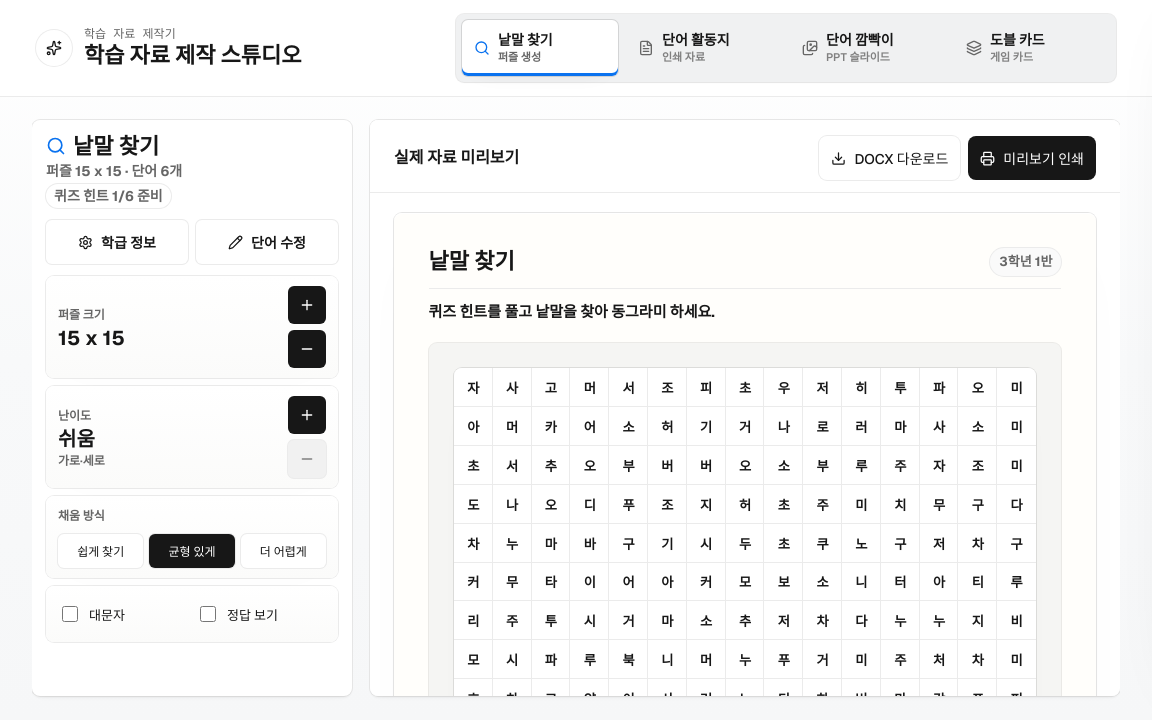
Test: App › gives student sheets a clear task and nearby completion spaces
Click the button "단어 활동지 인쇄 자료".
click(704, 48)  # box [626,20,782,76]
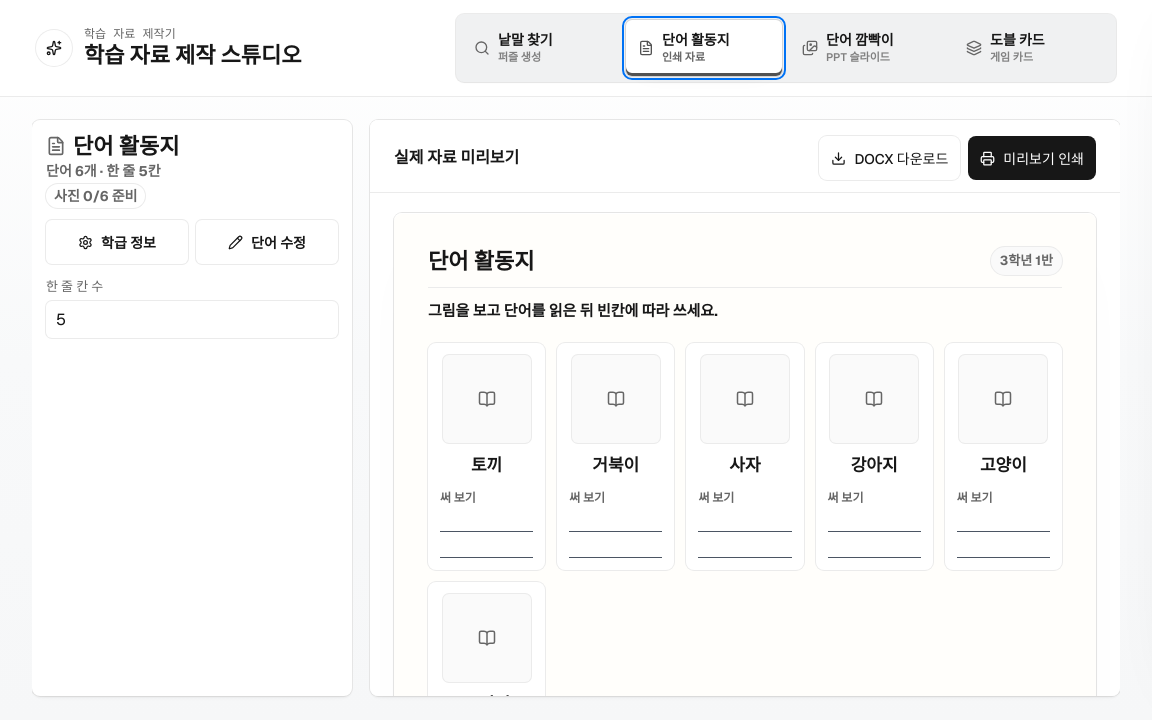
Result: the 1st text "써 보기" is shown at [440,490,476,506]
Result: the element named "토끼 쓰기 연습" is shown at [440,488,533,558]
